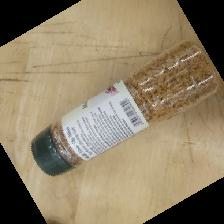TayNinh_green: (29, 40, 219, 179)
